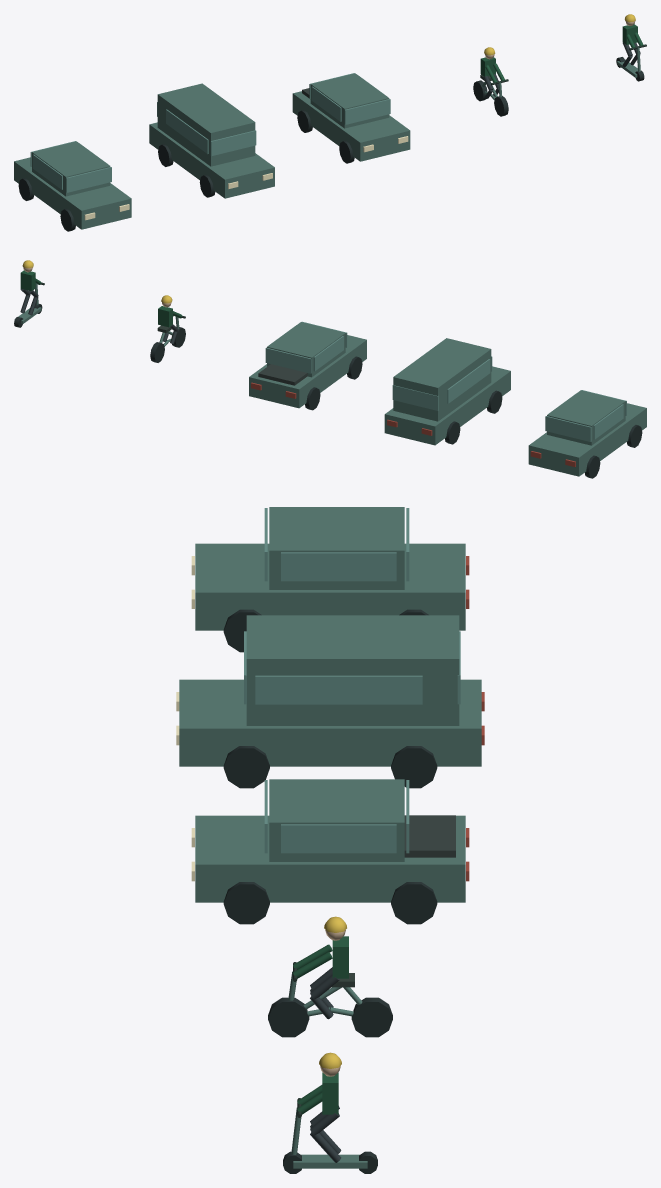
The model's file is campus-props.glb.
3 views of the same model, one above another, from view 1: azimuth 30°, elevation 25°; view 2: azimuth 150°, elevation 25°; view 3: azimuth 270°, elevation 25° (orthographic). The views are drawn at different scales.
Parts seen in each view (by area): view 1: Original campus van, Original campus pickup, Original campus car, Original campus bicycle, Original campus scooter; view 2: Original campus van, Original campus car, Original campus pickup, Original campus bicycle, Original campus scooter; view 3: Original campus van, Original campus pickup, Original campus car, Original campus bicycle, Original campus scooter.
Boxes of the visible parts, x1,y1,x2,y2 form: Original campus van: [149, 83, 274, 198]; Original campus pickup: [292, 73, 410, 163]; Original campus car: [14, 141, 131, 231]; Original campus bicycle: [473, 47, 508, 116]; Original campus scooter: [616, 14, 646, 81]; Original campus van: [384, 338, 510, 445]; Original campus car: [528, 390, 646, 478]; Original campus pickup: [249, 321, 366, 410]; Original campus bicycle: [150, 295, 185, 362]; Original campus scooter: [14, 260, 44, 327]; Original campus van: [176, 615, 484, 788]; Original campus pickup: [191, 779, 469, 924]; Original campus car: [191, 507, 469, 652]; Original campus bicycle: [268, 916, 392, 1037]; Original campus scooter: [283, 1052, 377, 1173].
Size of the model in its own units: 21.29 by 2.17 by 4.8.
